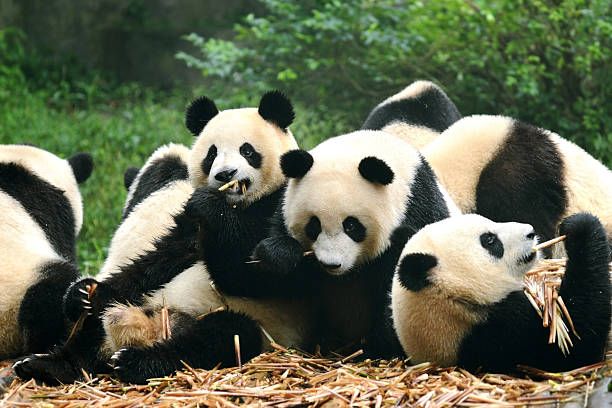panda: (181, 88, 328, 224), (267, 137, 396, 287), (396, 206, 542, 312)
